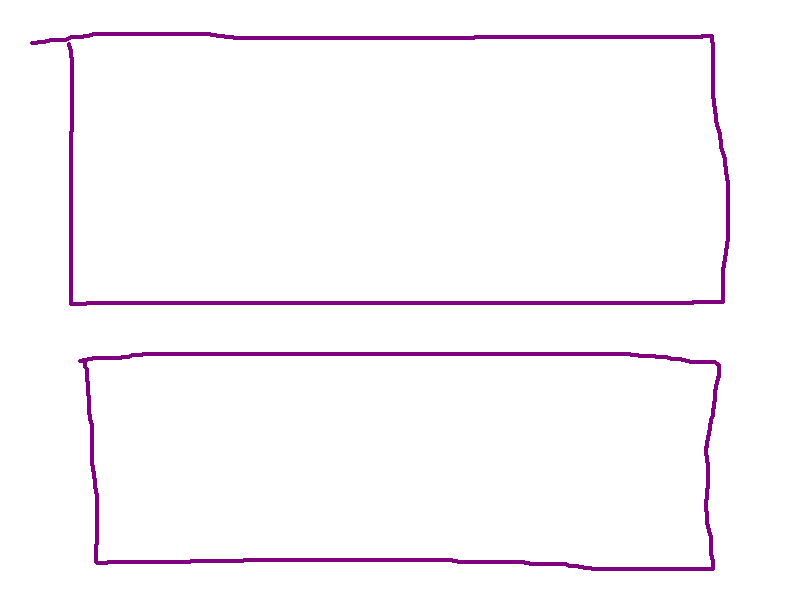rect: (26, 28, 737, 315), (77, 341, 719, 577)
